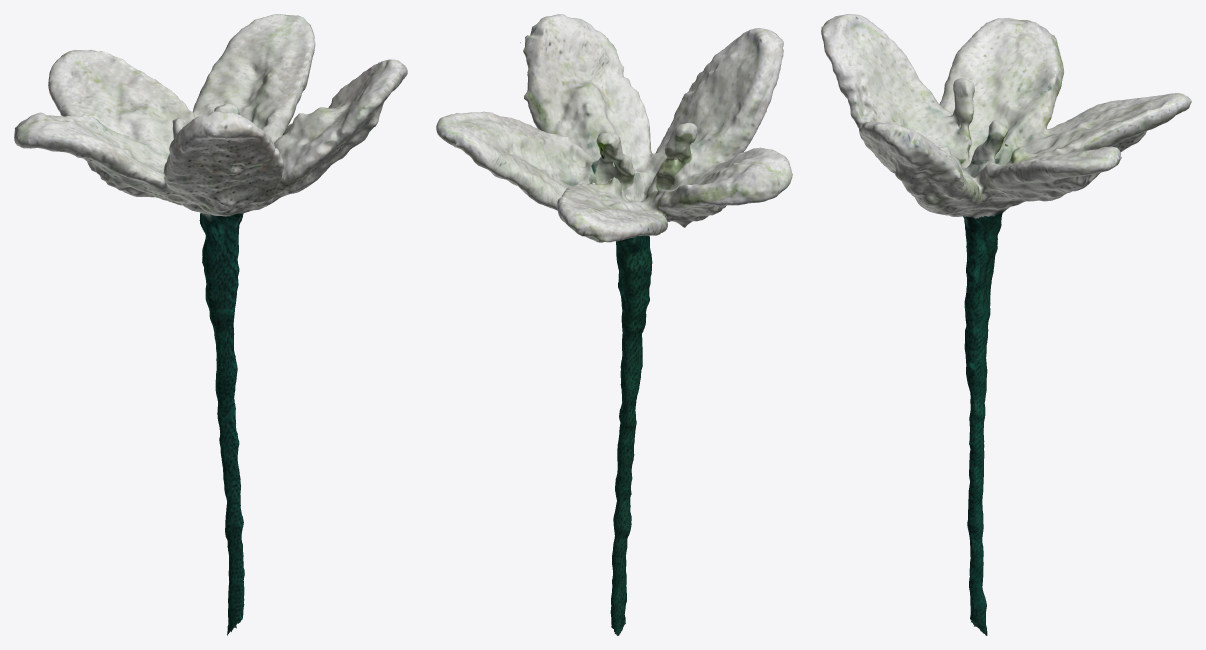
Rendered from lily_single.glb.
3 renders of one model, left to right at view 1: azimuth 30°, elevation 25°; view 2: azimuth 150°, elevation 25°; view 3: azimuth 270°, elevation 25°, orthographic. The views are drawn at different scales.
Parts seen in each view (by area): view 1: Lily_Petal, Lily_Stem; view 2: Lily_Petal, Lily_Stem; view 3: Lily_Petal, Lily_Stem.
Part boxes in pixels (<box>): Lily_Petal: <box>14,14,407,216</box>; Lily_Stem: <box>199,212,244,635</box>; Lily_Petal: <box>436,14,792,242</box>; Lily_Stem: <box>610,235,652,635</box>; Lily_Petal: <box>821,14,1191,217</box>; Lily_Stem: <box>963,212,1003,635</box>.
Size of the model in its own units: 1.15 by 2 by 1.15.
2 materials, 2 textured.
